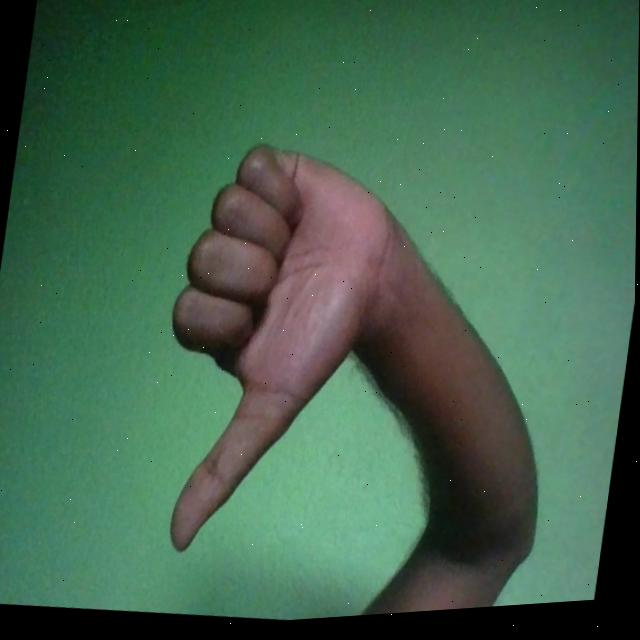Dislike: (142, 130, 405, 577)
